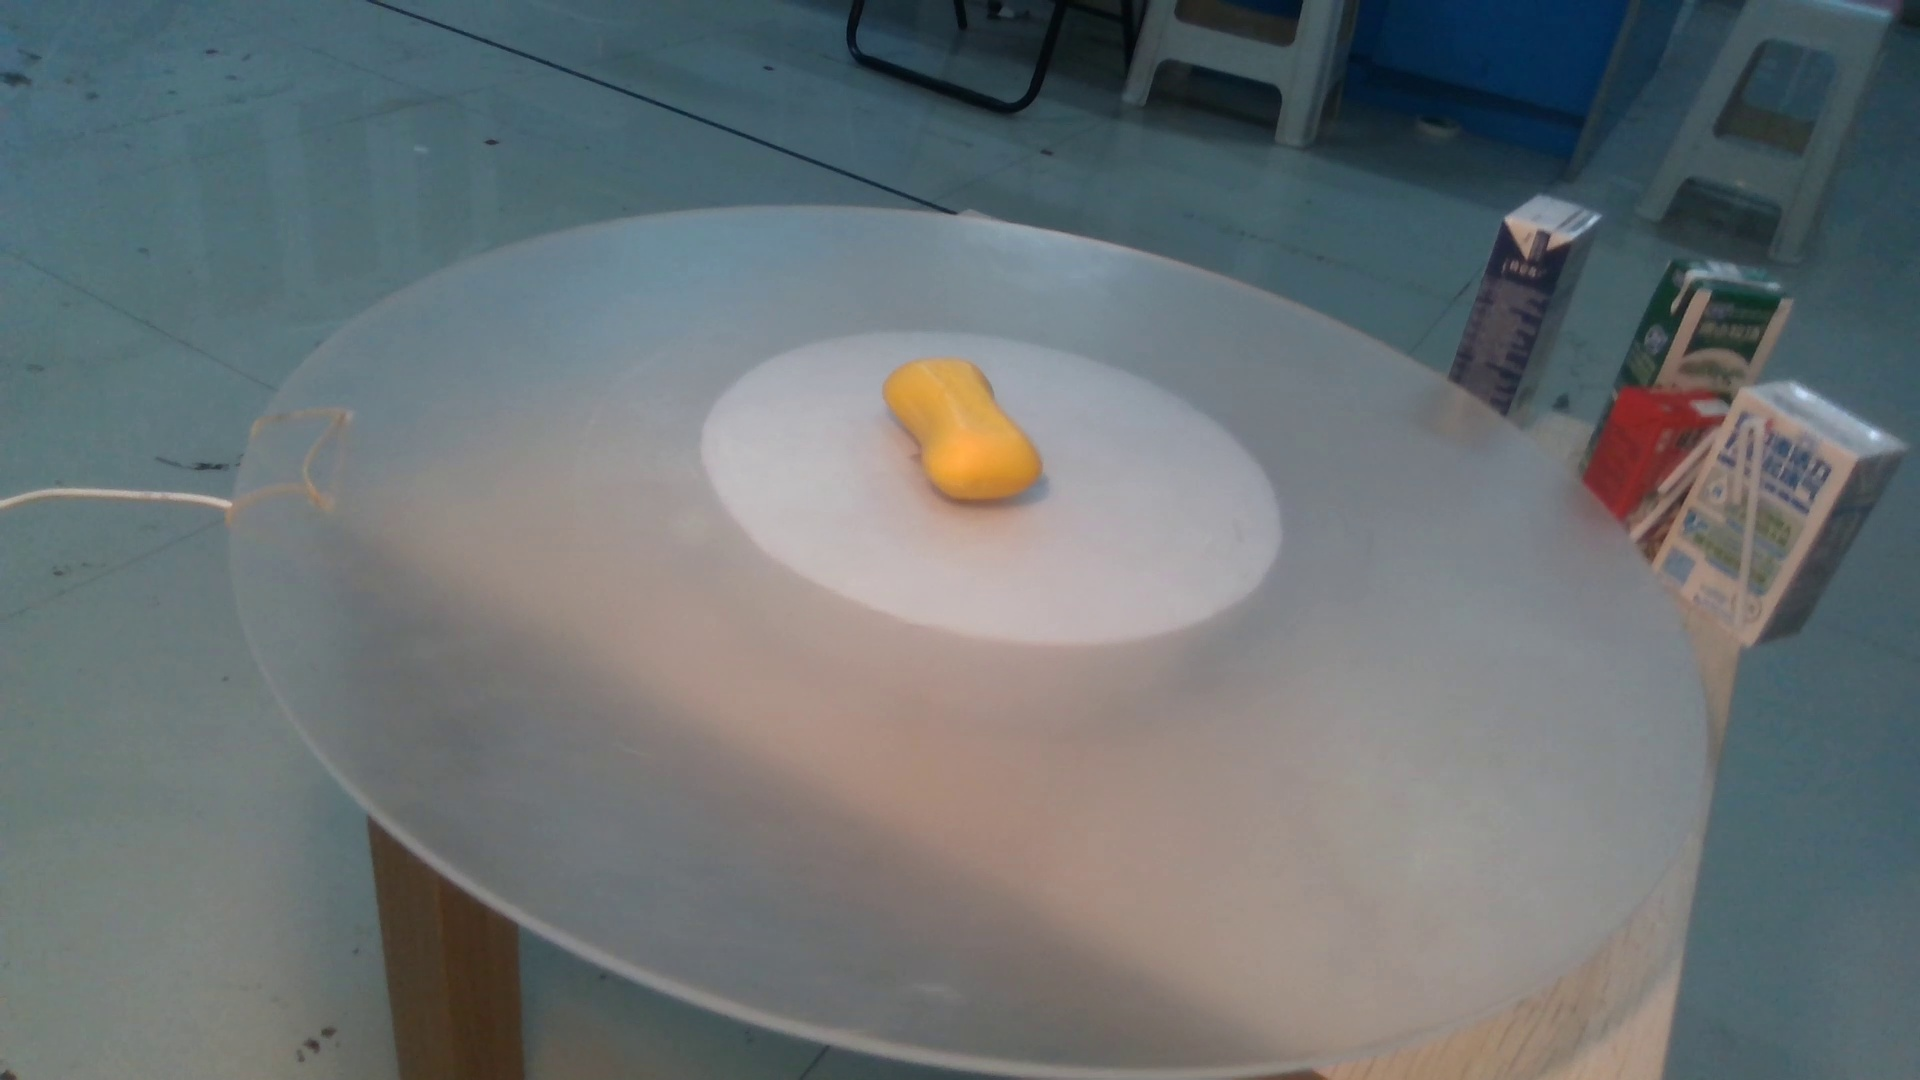CA003_1: (837, 345, 1079, 509)
